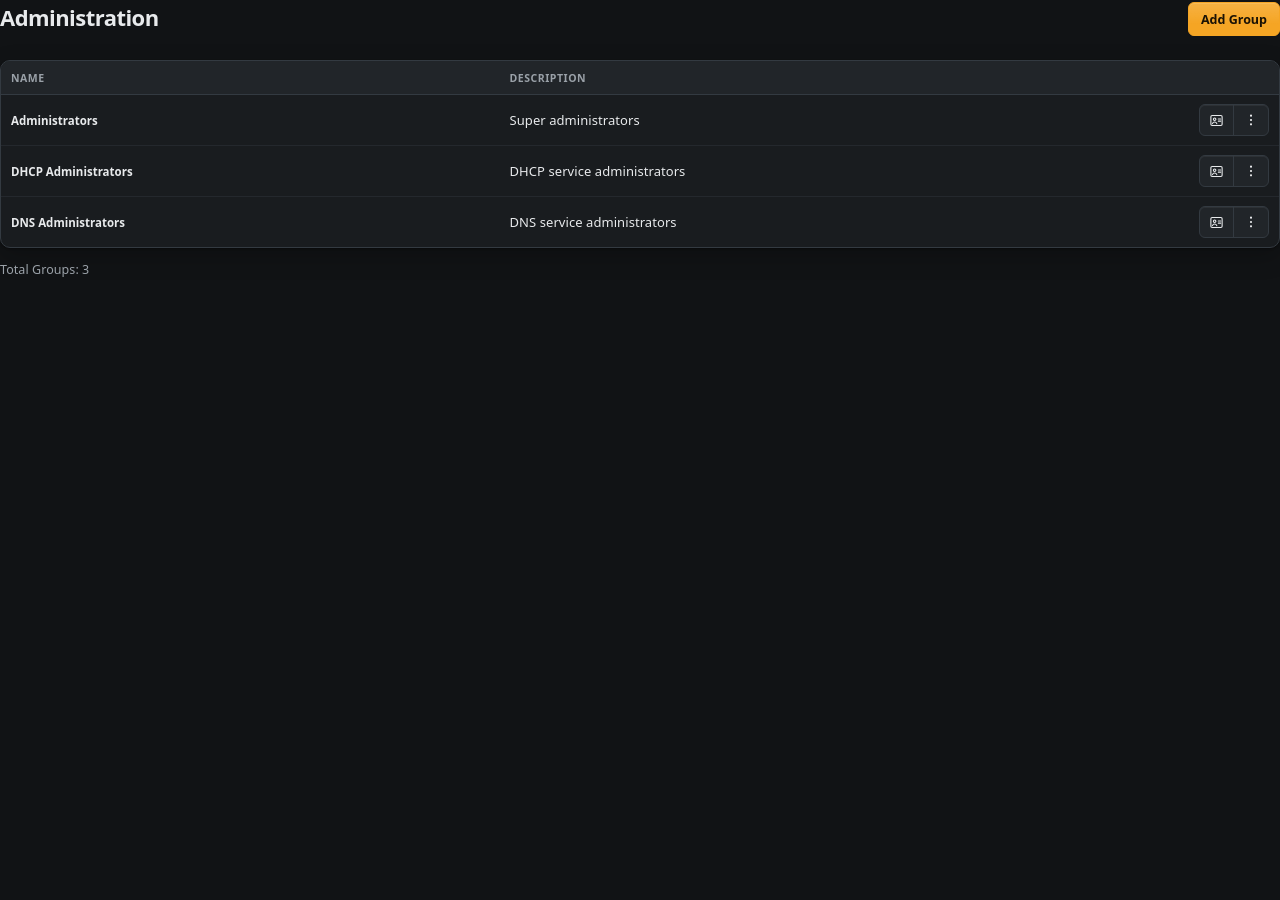
Test: Groups: the details modal › deleting asks for confirmation with the name and takes the row out
The image size is (1280, 900).
Click the button named "Actions for ". click: click(1251, 120)
box: 1234,105 -> 1268,135
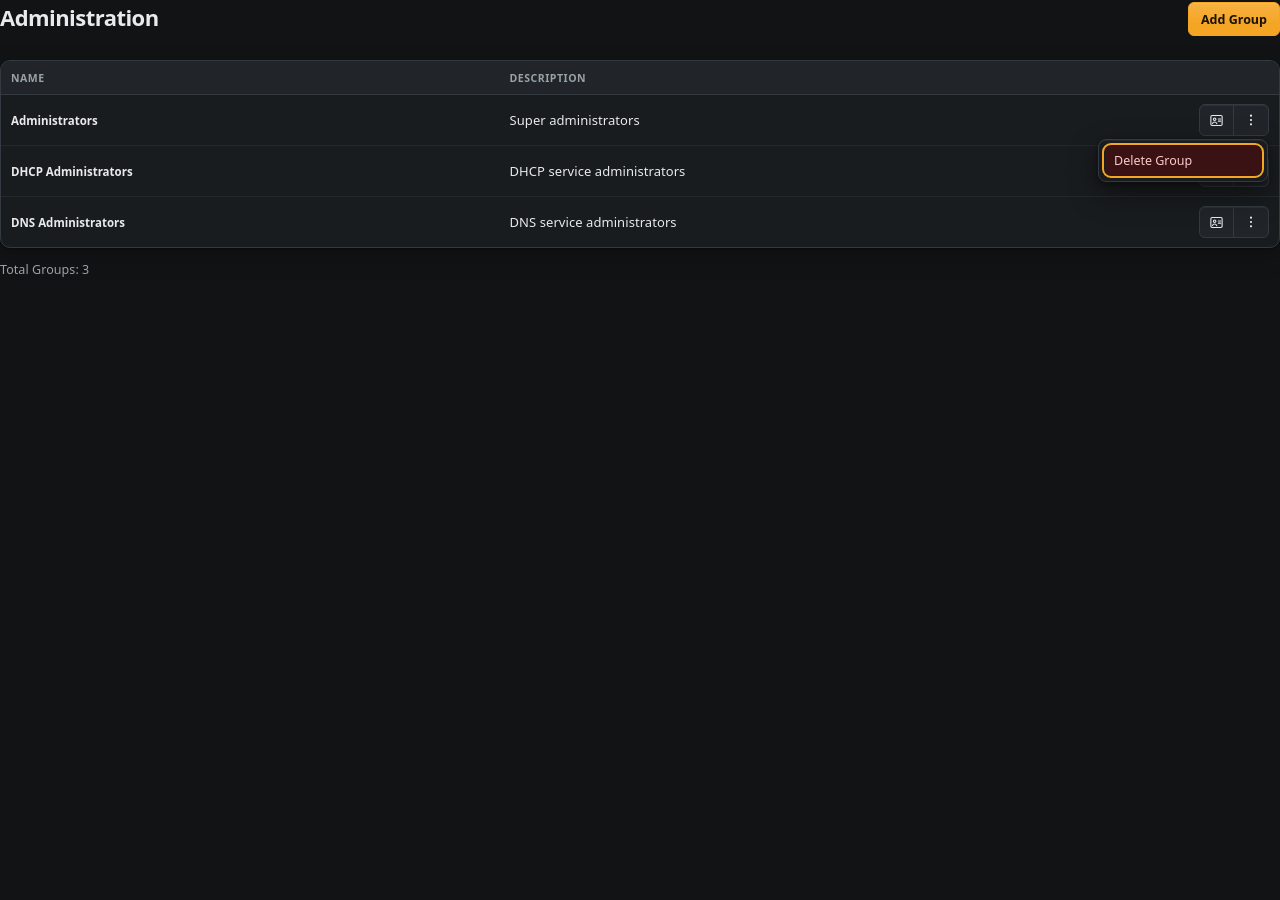
Click the menu item "Delete Group". click: click(1183, 161)
box: 1105,146 -> 1261,175
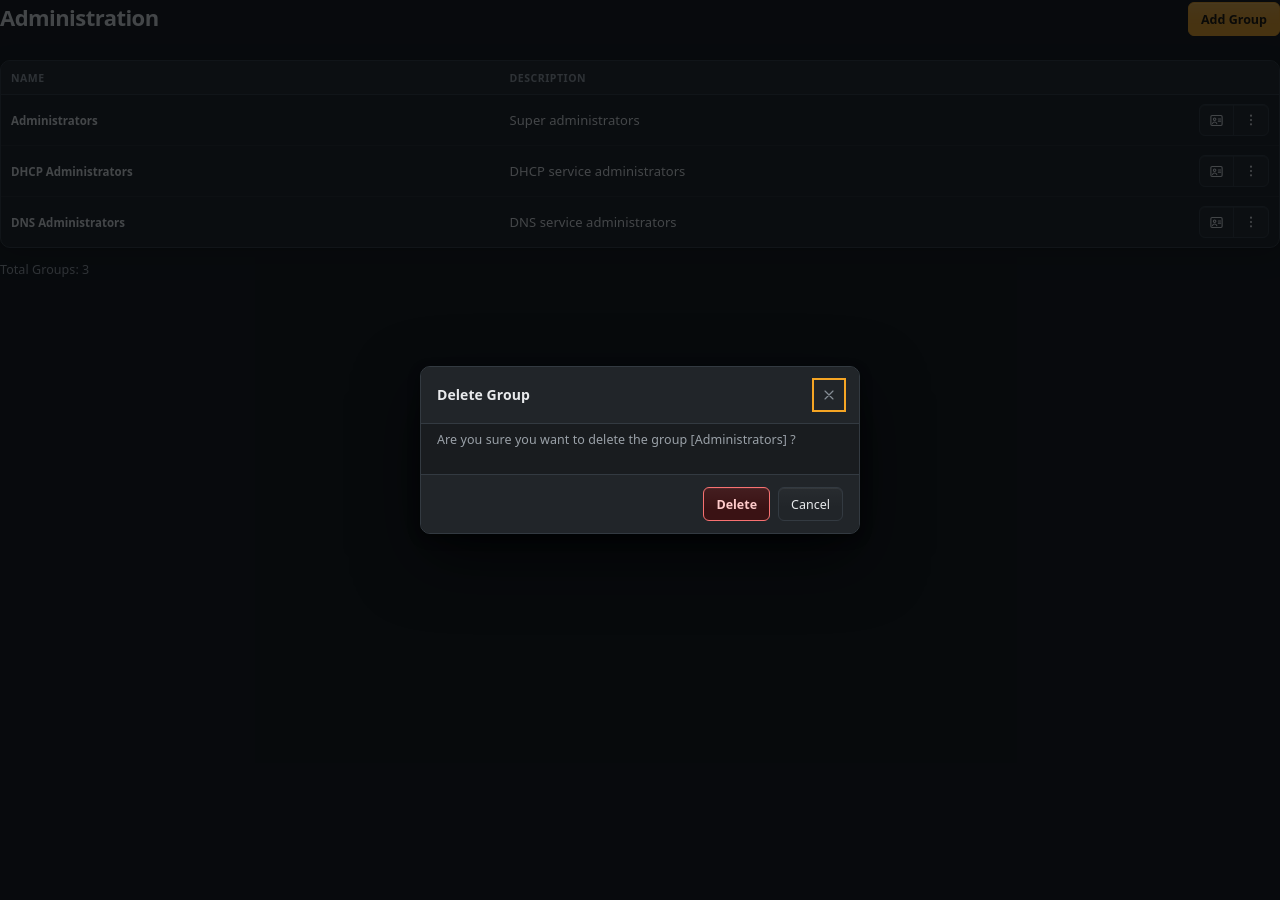
Check: the text "Are you sure you want to delete the group [Administrators] ?" is shown, box 437,430 -> 843,450
Click the button "Delete". click: click(737, 504)
box: 703,487 -> 770,521
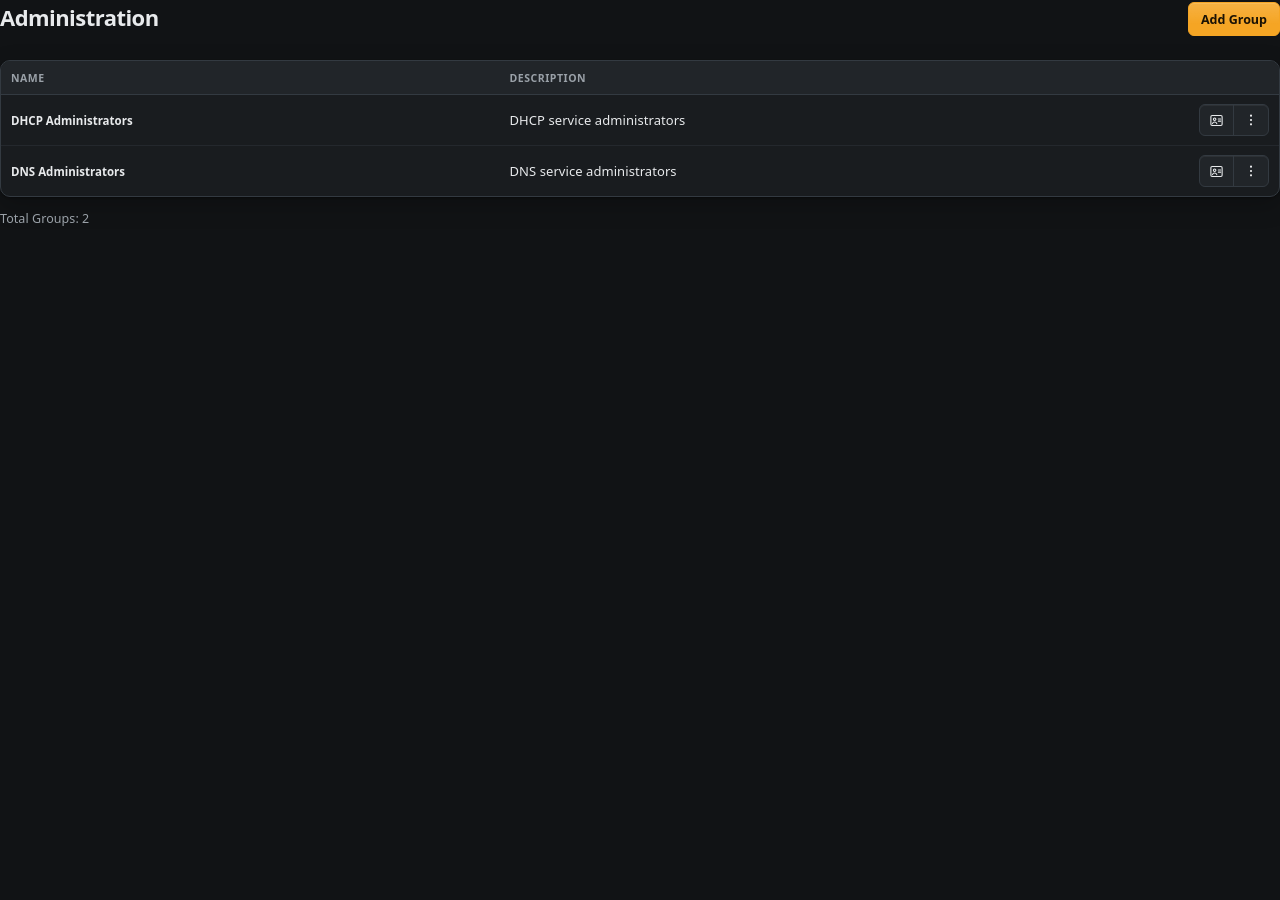
Check: the text "Total Groups: 2" is shown, box 0,209 -> 89,229
